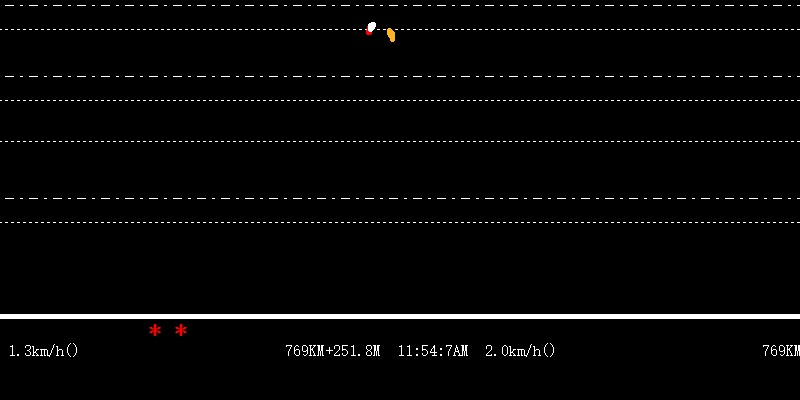face_1: (387, 23, 395, 45)
face_s: (363, 19, 379, 40)
star: (146, 320, 164, 337), (172, 323, 188, 337)
